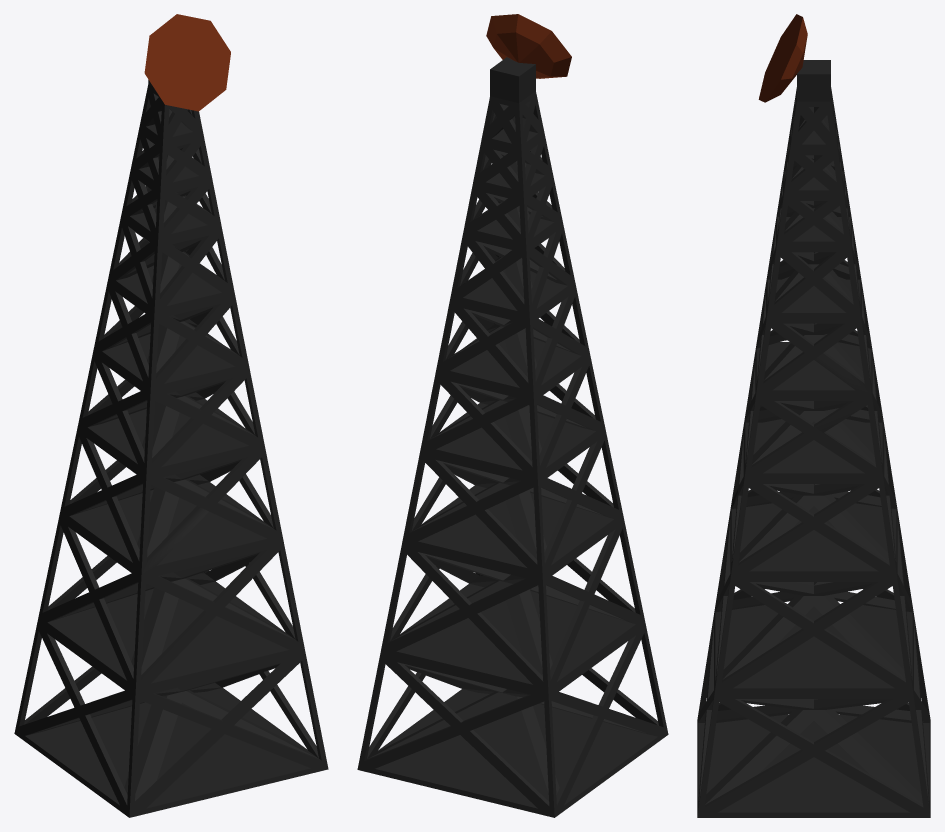
Rendered from Mesh_RadioTower.fbx.
3 renders of one model, left to right at view 1: azimuth 30°, elevation 25°; view 2: azimuth 150°, elevation 25°; view 3: azimuth 270°, elevation 25°, orthographic. The views are drawn at different scales.
Parts seen in each view (by area): view 1: Sphere001; view 2: Sphere001; view 3: Sphere001.
Boxes of the visible parts, <box> form: Sphere001: <box>14,14,328,817</box>; Sphere001: <box>357,14,668,817</box>; Sphere001: <box>697,14,930,817</box>.
Size of the model in its own units: 125 by 446 by 125.
